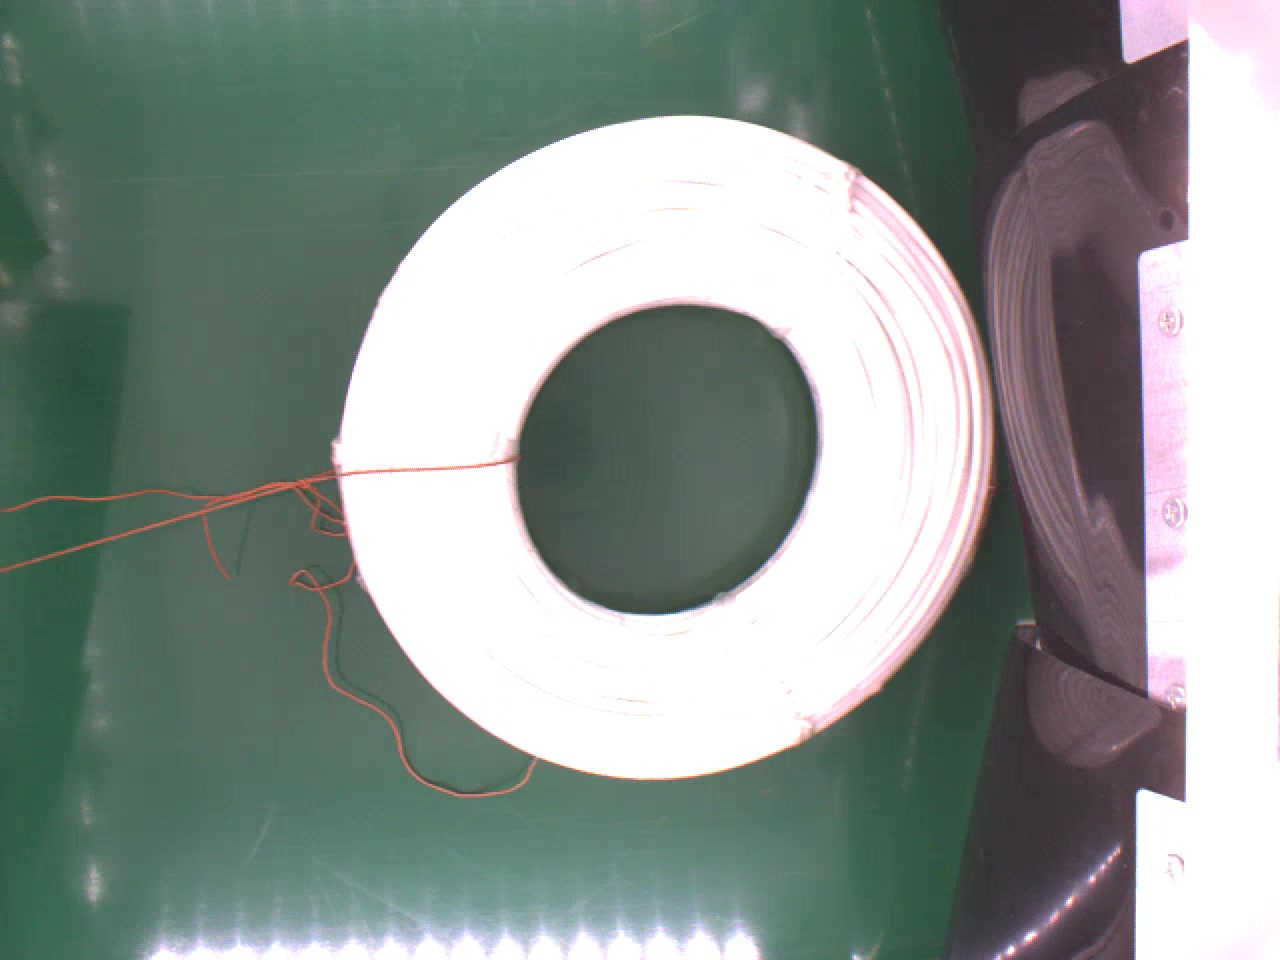white: (328, 103, 995, 784)
